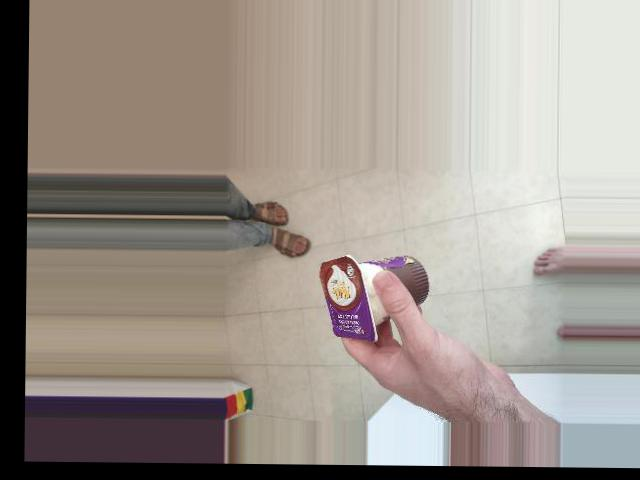milky: (309, 218, 407, 325)
